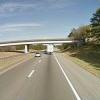Car: (33, 50, 41, 59)
